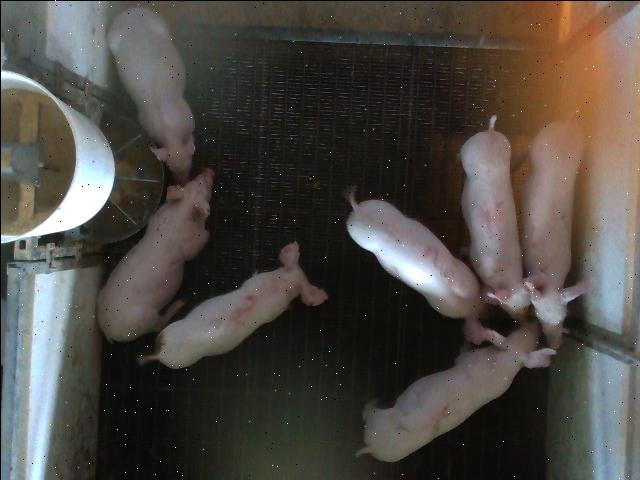pig-3: (344, 185, 488, 344)
pig-4: (459, 114, 529, 319)
pig-5: (136, 242, 326, 368)
